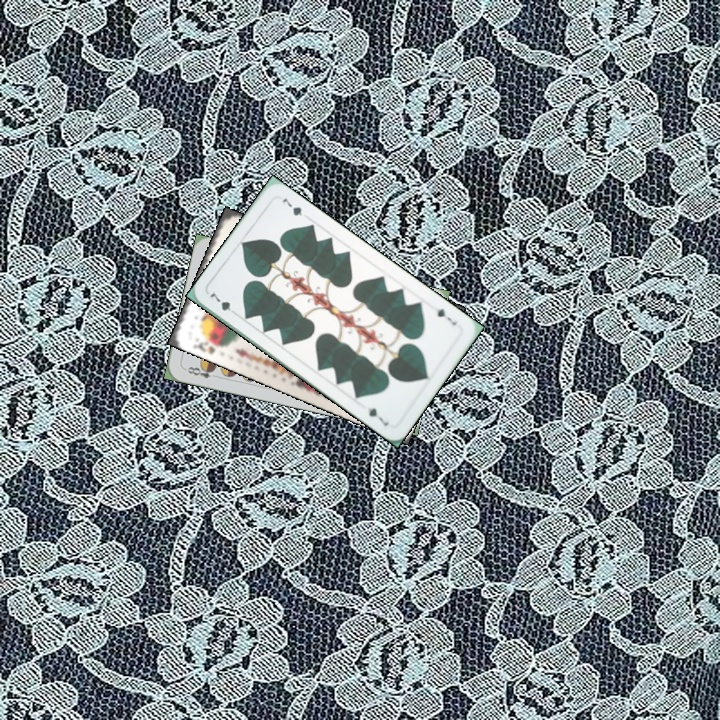E8: (181, 362, 221, 381)
G7: (206, 289, 241, 318), (432, 305, 459, 328)
SK: (189, 335, 227, 357)
